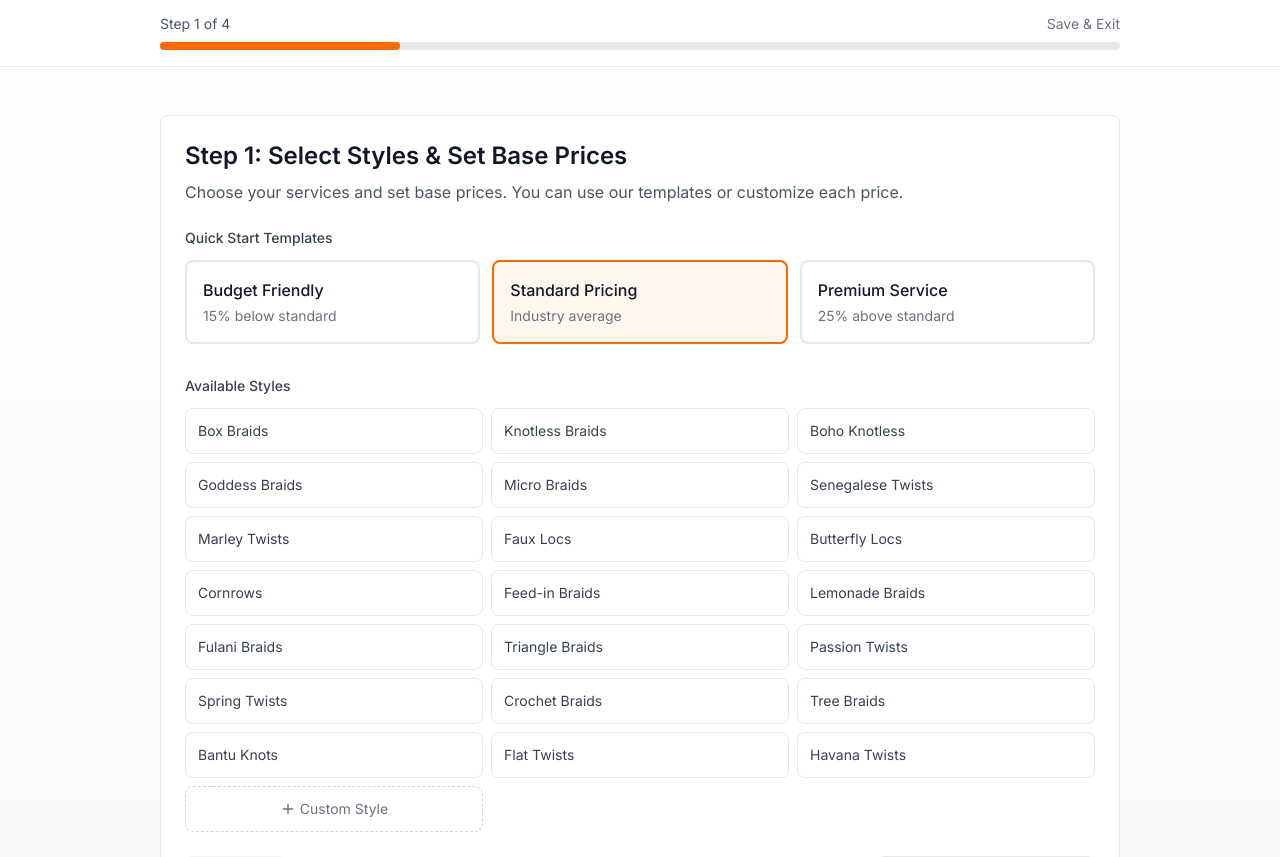
Test case: SimplifiedOnboardingWizard › navigates to next step when styles are selected
Select a style
Click the button "Box Braids": (233, 430) [185,408,483,454]
(page scrolled)
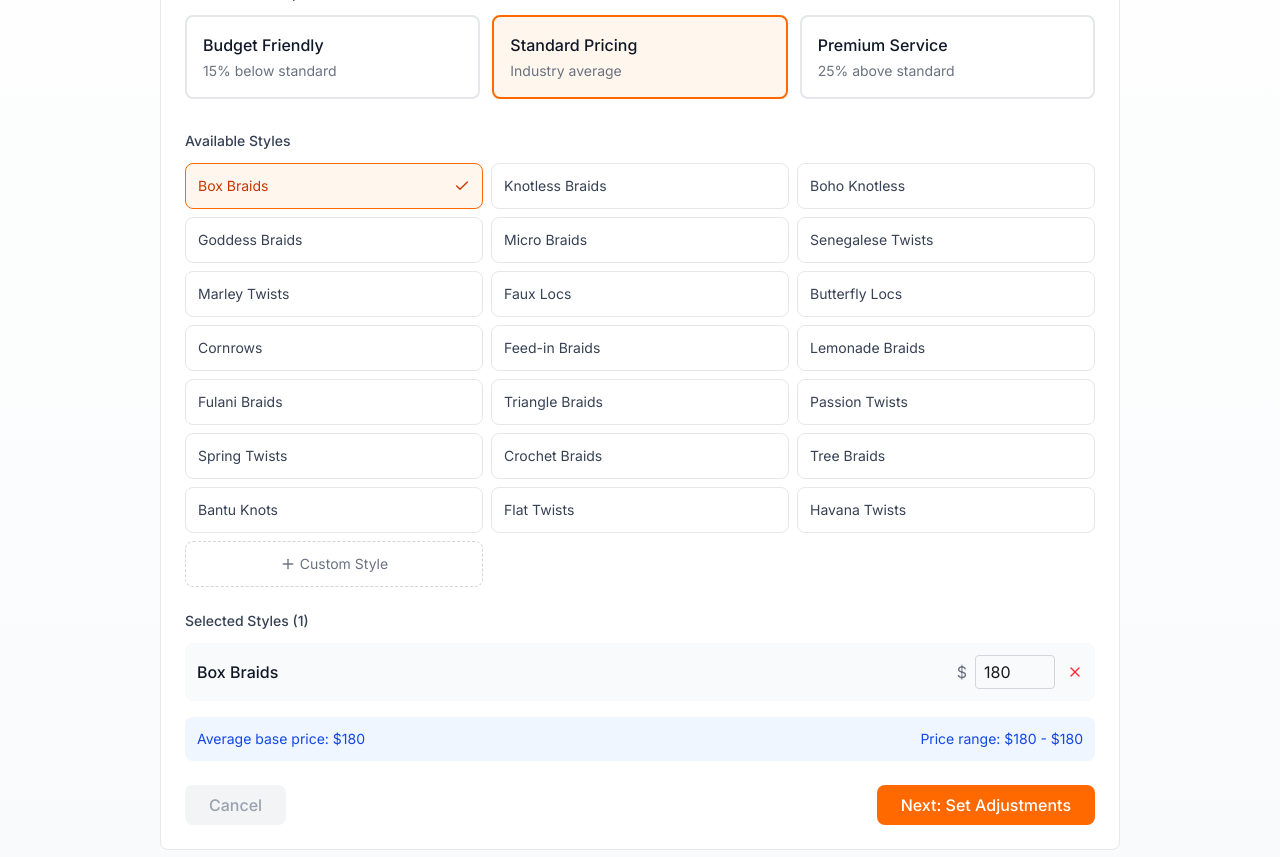
Click next
Click the button "Next: Set Adjustments": (986, 805) [877,785,1095,825]
(page scrolled)
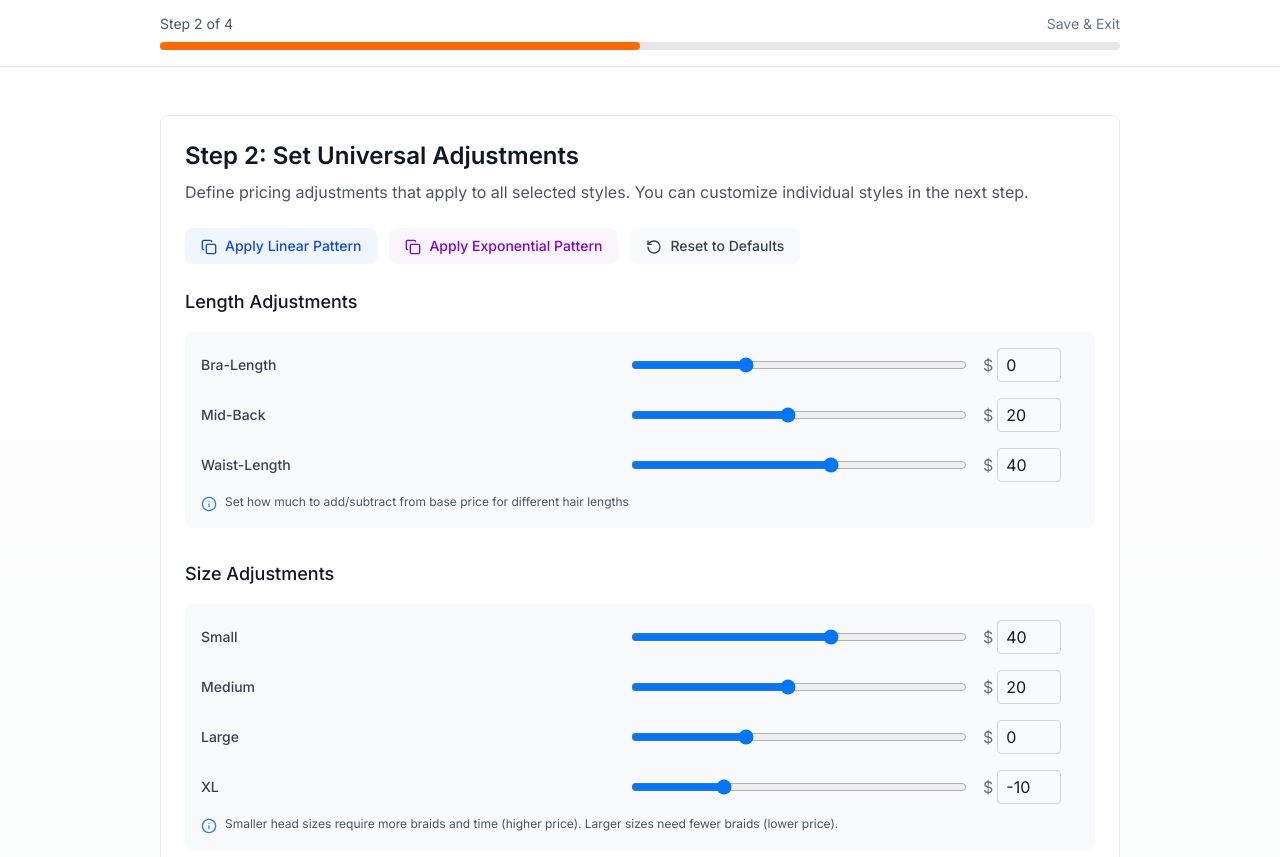
Expected: the heading "Step 2: Set Universal Adjustments" is shown, [185,141,579,170]
